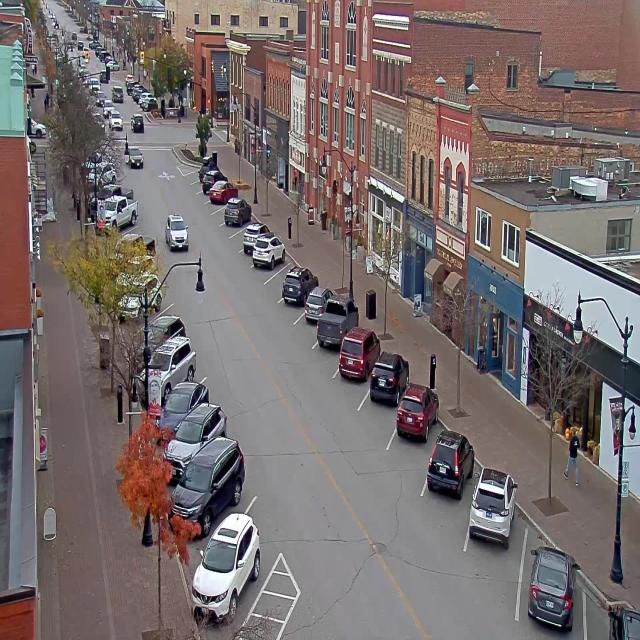available: (264, 258, 298, 298), (210, 193, 229, 229), (227, 222, 247, 255), (181, 165, 198, 189)
occupied: (169, 435, 245, 538), (194, 506, 269, 606), (526, 544, 578, 630), (468, 466, 517, 547), (154, 381, 208, 442), (426, 429, 474, 497), (395, 383, 440, 449), (173, 400, 236, 447), (149, 335, 200, 392), (335, 324, 378, 384), (594, 586, 639, 640), (316, 296, 358, 350), (369, 350, 409, 406), (142, 312, 187, 348), (282, 265, 318, 304), (302, 281, 332, 324), (252, 232, 285, 269), (224, 196, 252, 227), (241, 217, 265, 252), (208, 184, 238, 205), (200, 167, 224, 192), (199, 151, 218, 177)
